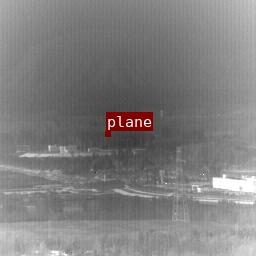plane: (106, 131, 109, 134)
